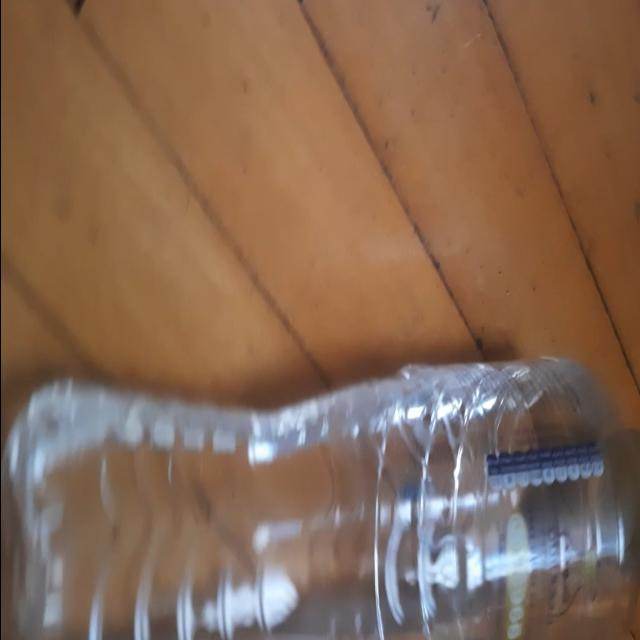Plastic: (0, 356, 640, 640)
